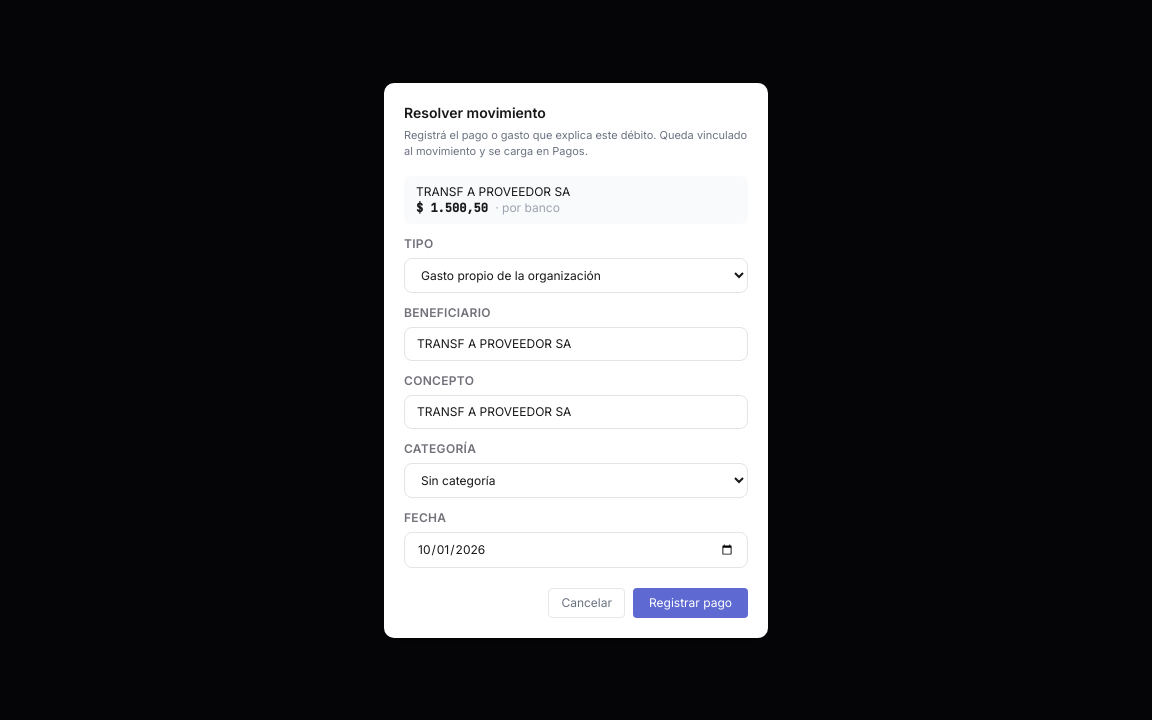
it: ResolverMovimientoModal › un proveedor exige el nombre
The width and height of the screenshot is (1152, 720).
Select "Pago a un proveedor propio" in the dropdown labelled "Tipo" at coordinates (576, 275), box [404,258,748,292]
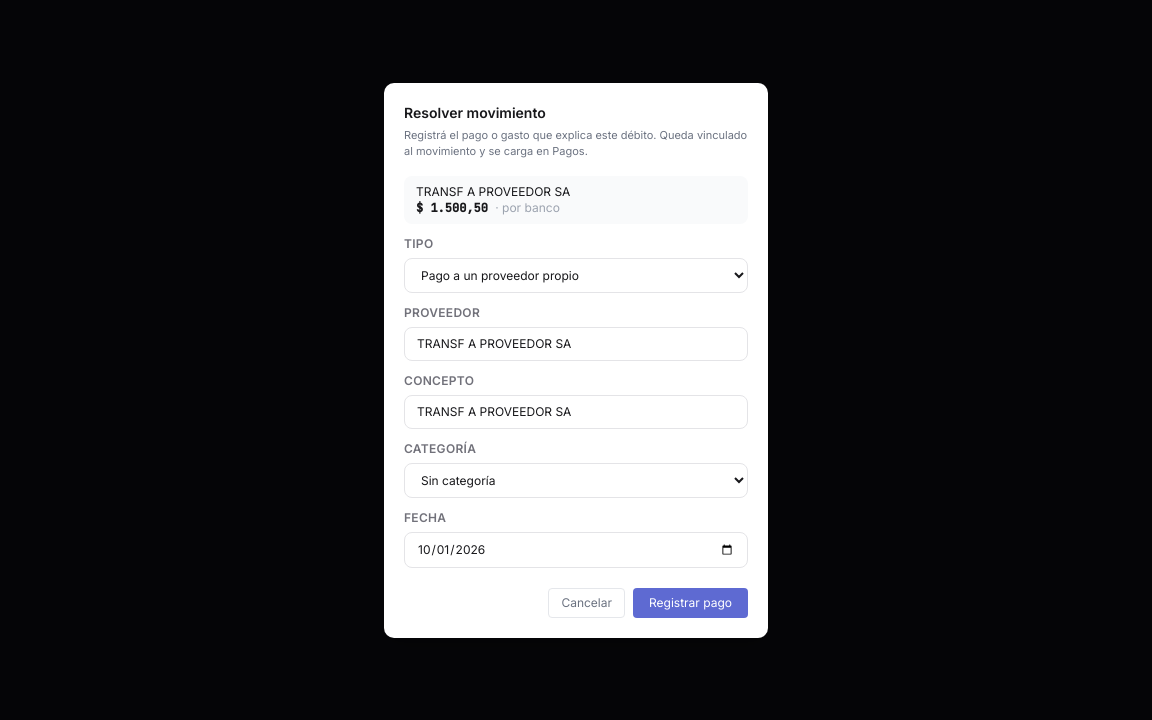
Clear the field labelled "Proveedor" at coordinates (576, 344), box [404,326,748,360]
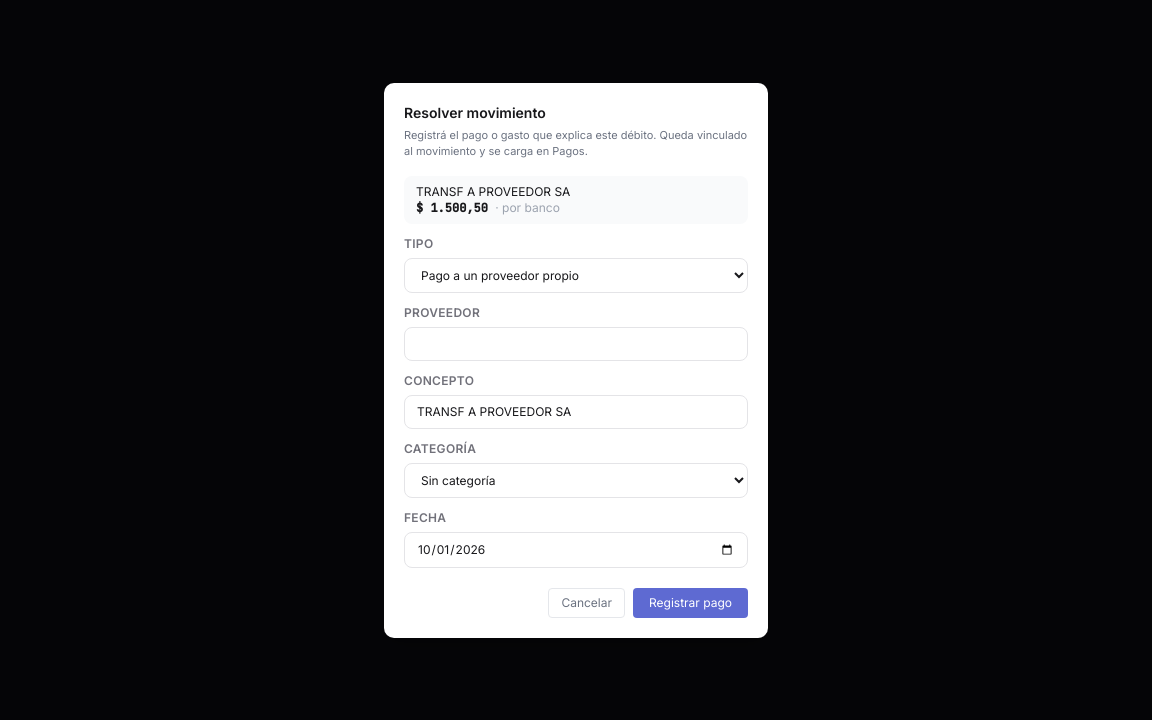
Click the button "Registrar pago" at coordinates (690, 602), box [633,588,748,618]
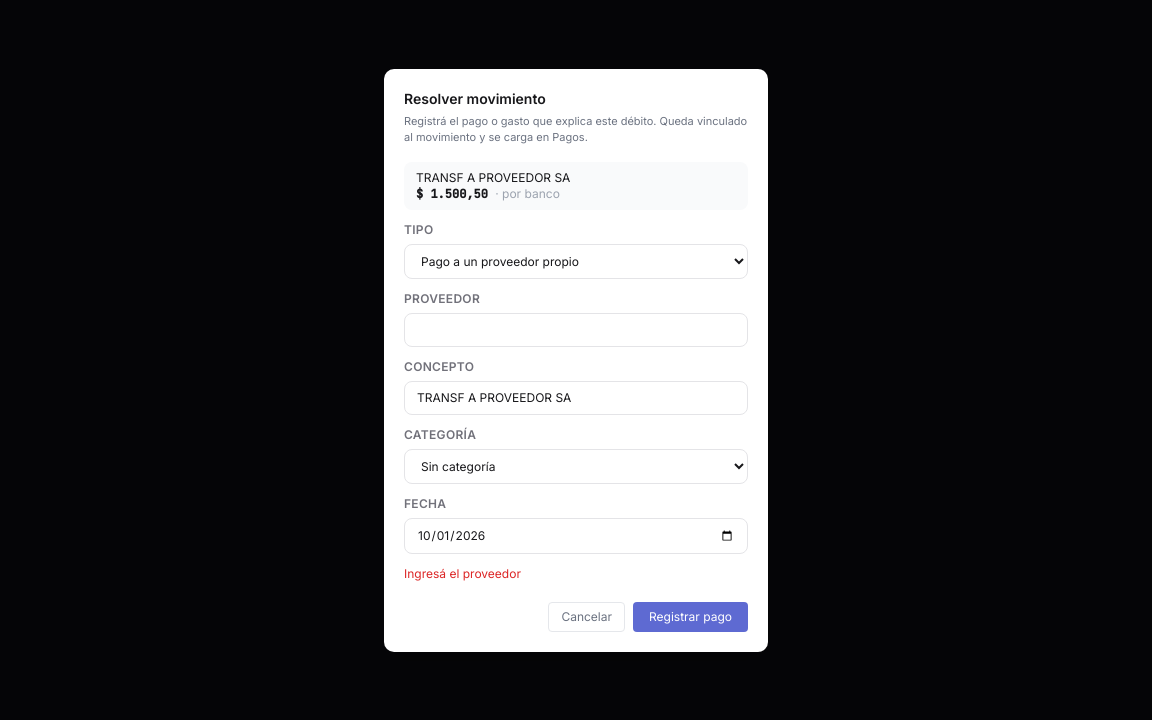
Result: the text "Ingresá el proveedor" is shown at [404,566,521,580]
